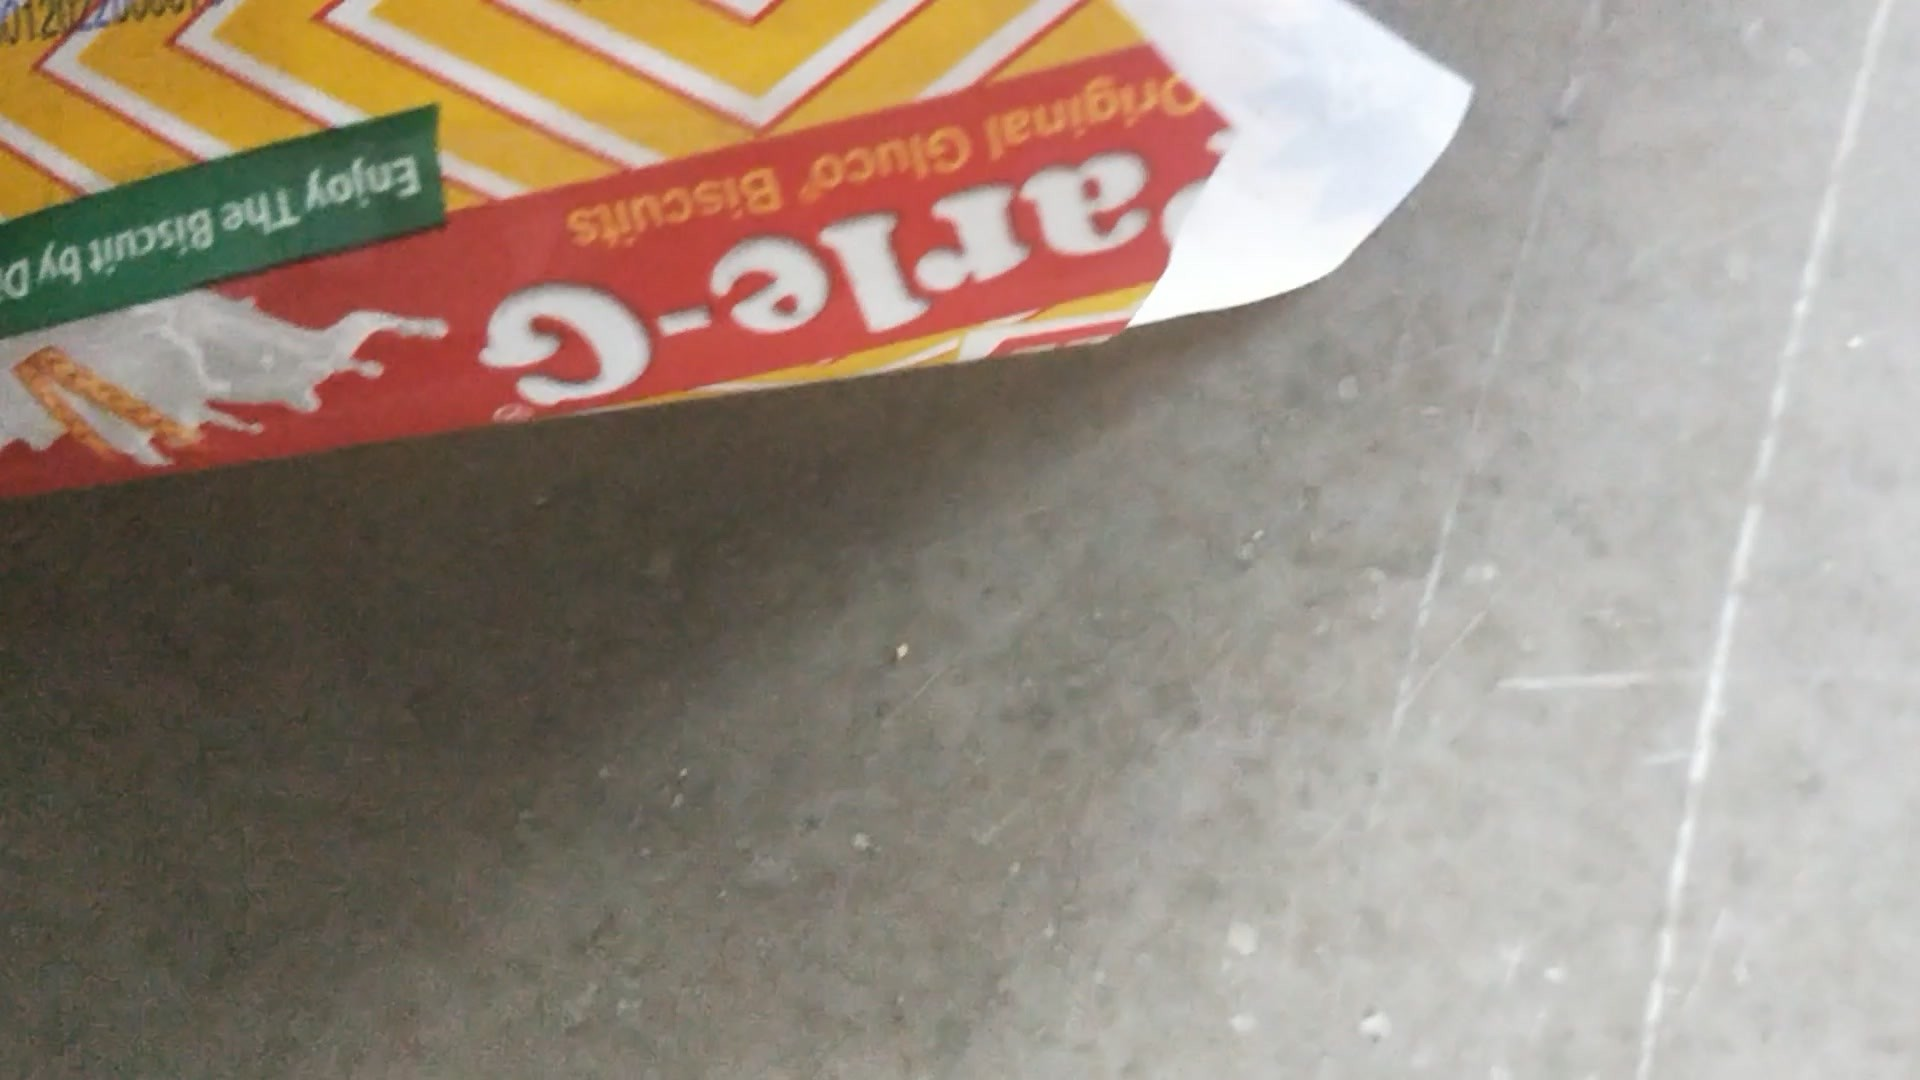parle-g-b: (1, 7, 1315, 417)
